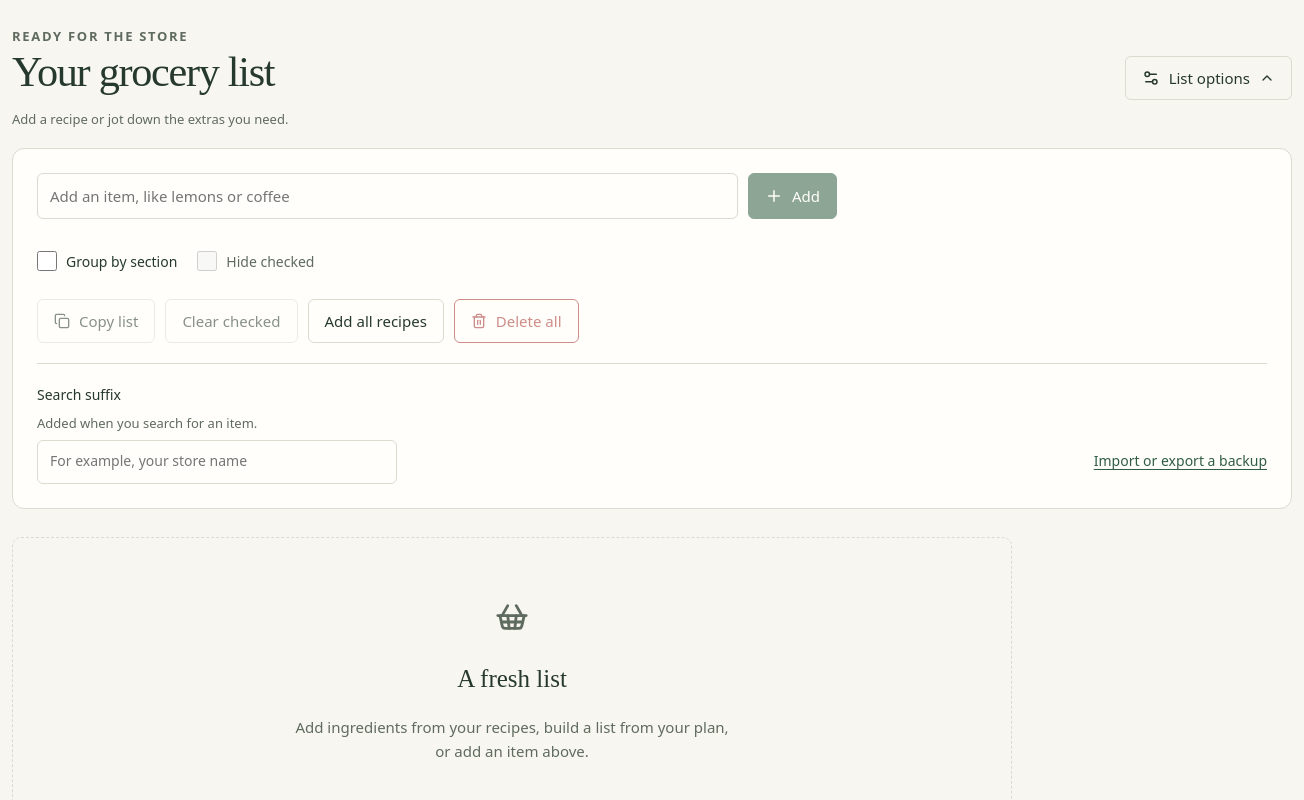
Test: Groceries › adds and removes manual items without interpreting markup
Type "<img src=x>" into the field named "Add grocery item".
click(388, 196); type("<img src=x>")  # box x1=37 y1=173 x2=738 y2=219
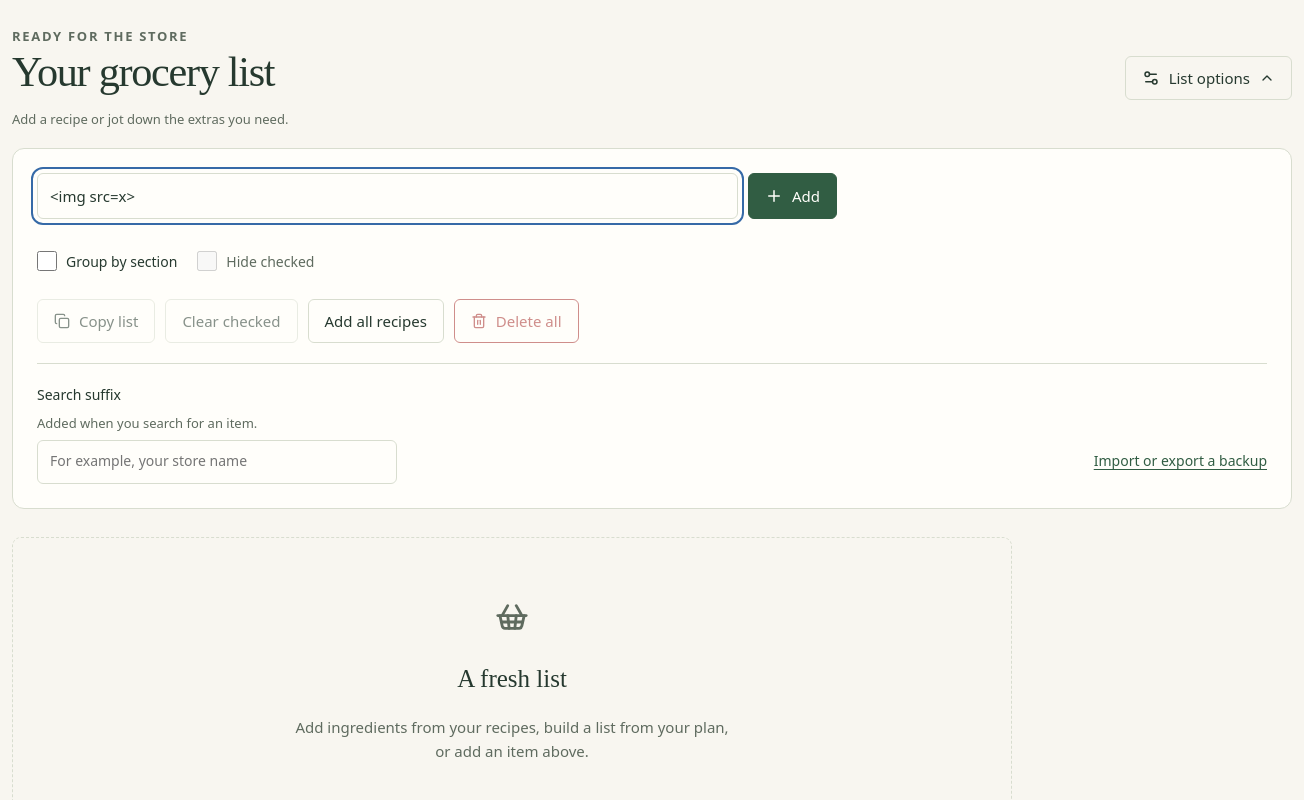
Click the button "Add".
click(792, 196)  # box x1=748 y1=173 x2=837 y2=219
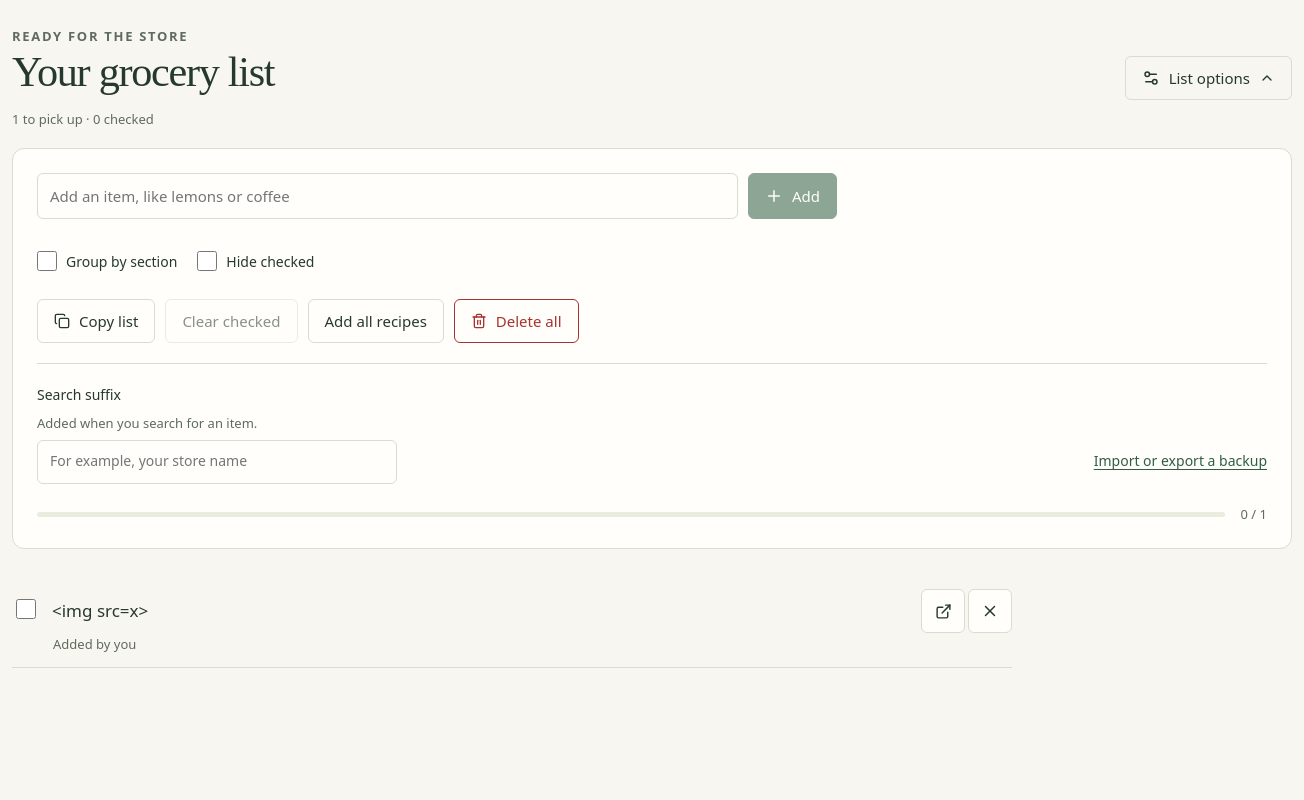
Result: the text "<img src=x>" is shown at x1=52 y1=599 x2=148 y2=624
Click the button named "Remove <img src=x>".
click(990, 611)  # box x1=968 y1=589 x2=1012 y2=633
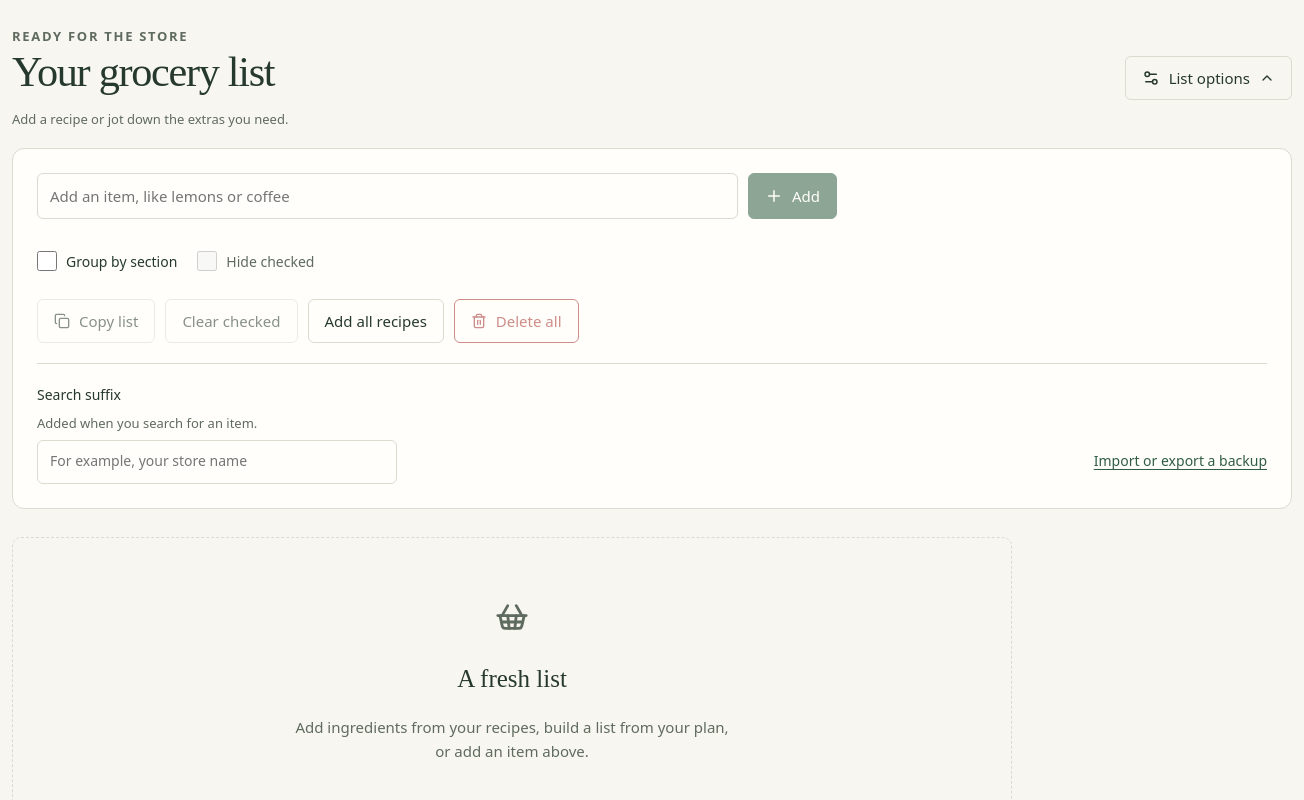
Result: the heading "A fresh list" is shown at x1=457 y1=664 x2=567 y2=693
